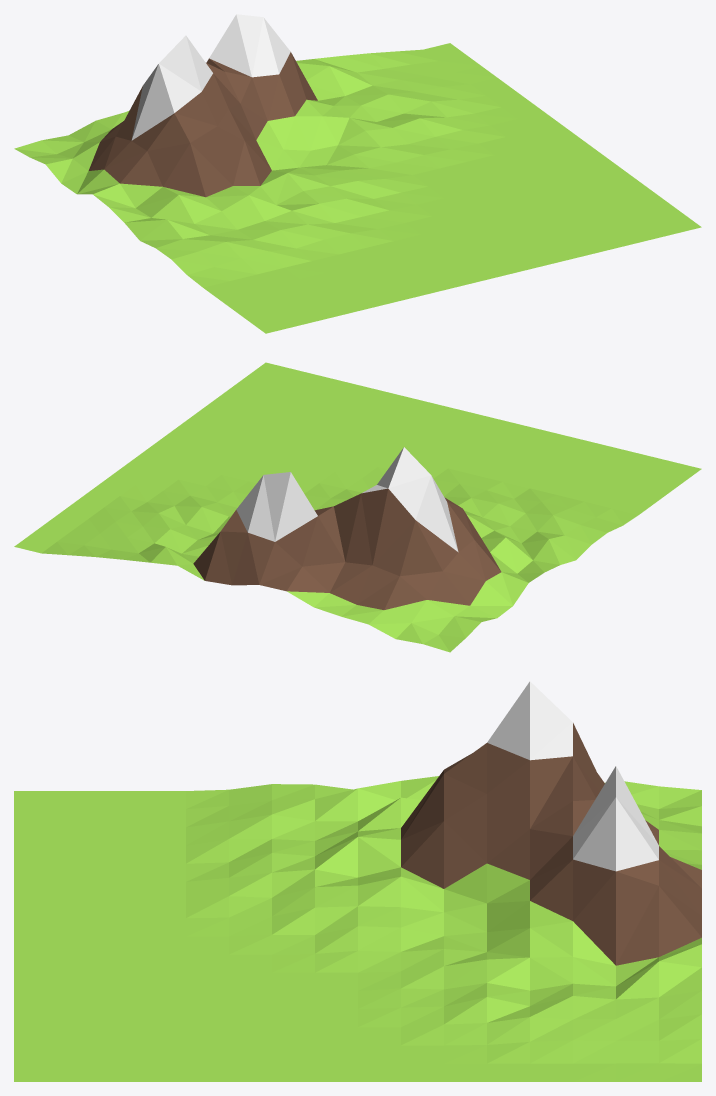
Rendered from mountains.glb.
The picture shows the model from 3 angles, top to bottom: view 1: azimuth 30°, elevation 25°; view 2: azimuth 150°, elevation 25°; view 3: azimuth 270°, elevation 25°; orthographic projection. The views are drawn at different scales.
Visible parts, largest first — view 1: mountains; view 2: mountains; view 3: mountains.
Part boxes in pixels (<box>): mountains: <box>14,14,701,333</box>; mountains: <box>14,362,701,652</box>; mountains: <box>14,681,701,1081</box>.
Bounding box in the file's own units: 10.01 × 2.93 × 10.01.
